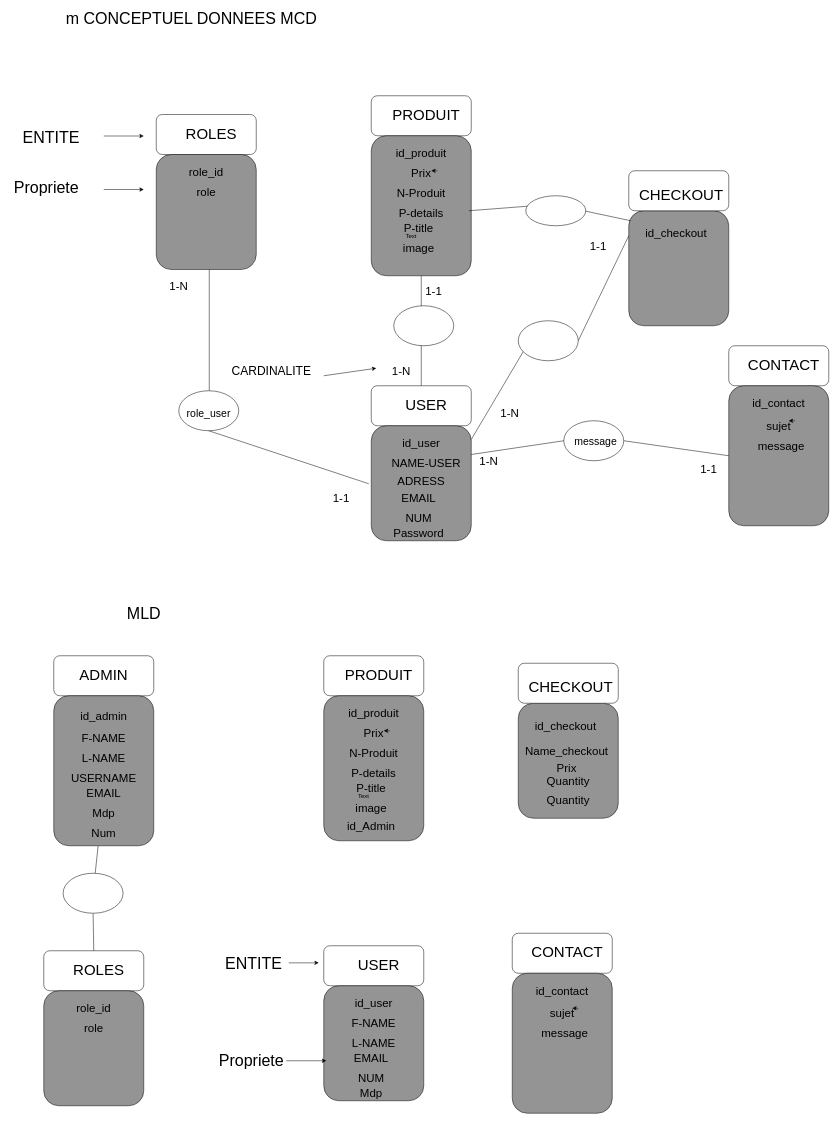
This 838x1122 diagram has some shape labels left out. Each missing label, with the centre of its shape:
"Order" belongs at [548,340].
"view Crud" belongs at [423,325].
